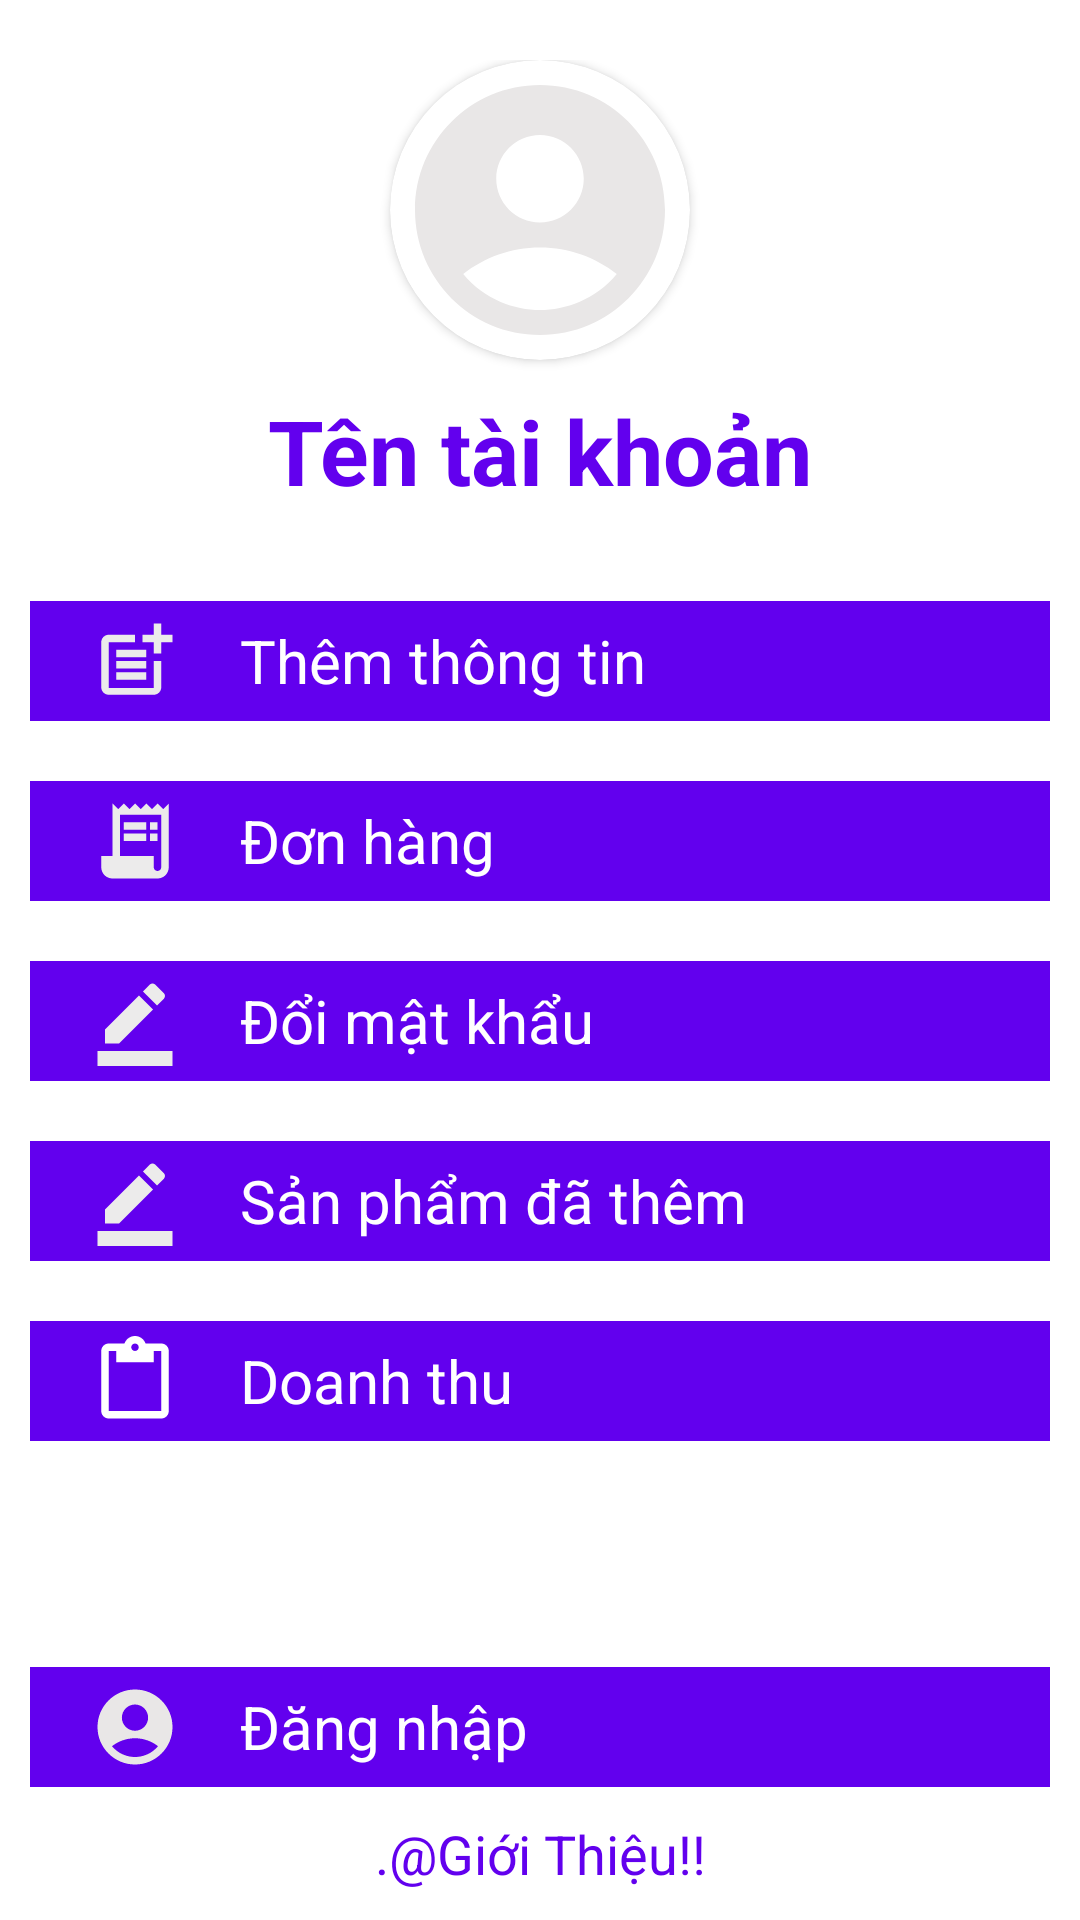

Locate icon controls on the screen. Image size 1080 × 1920, boxes as (x1, y1, x2, y2).
doimatkhau: (97, 983, 173, 1066), (97, 1163, 173, 1246)
donhang: (101, 803, 169, 879)
post add: (101, 623, 173, 695)
